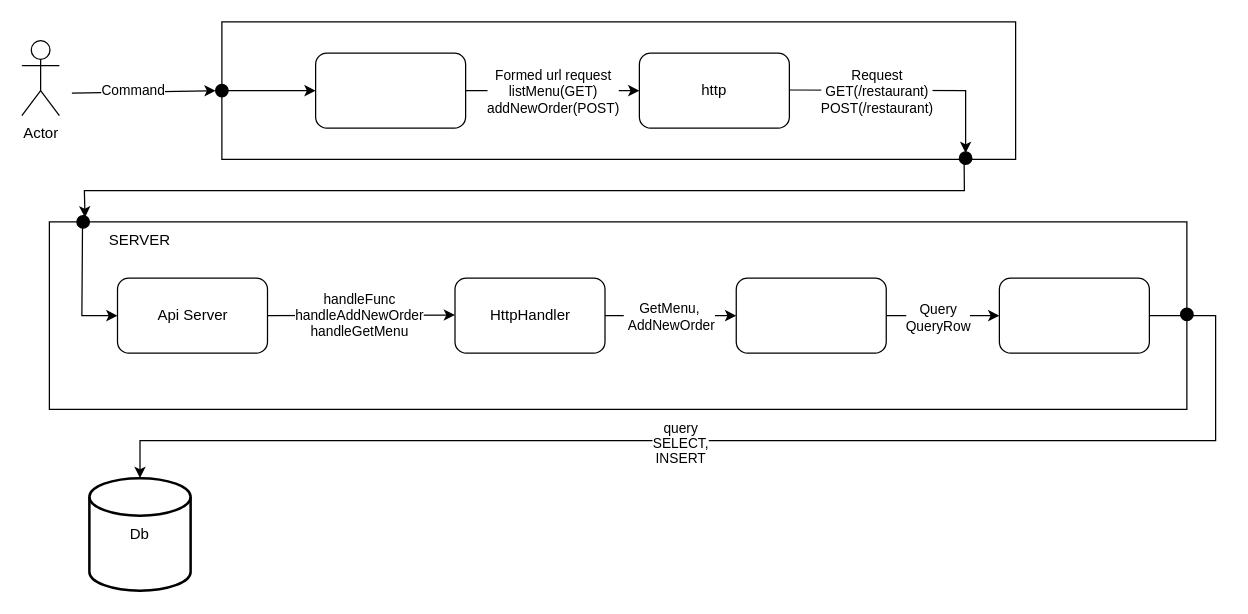
Some shapes in this 1248 by 614 pixel diagram are drawn without their labels. The shapes that lost their labels are listed below. From the top down, each one's box as (x1, y1, x2, y2) in pixels, then its label:
(314, 52, 466, 128): Client
(735, 277, 886, 353): Store
(998, 277, 1149, 353): DbConnection
